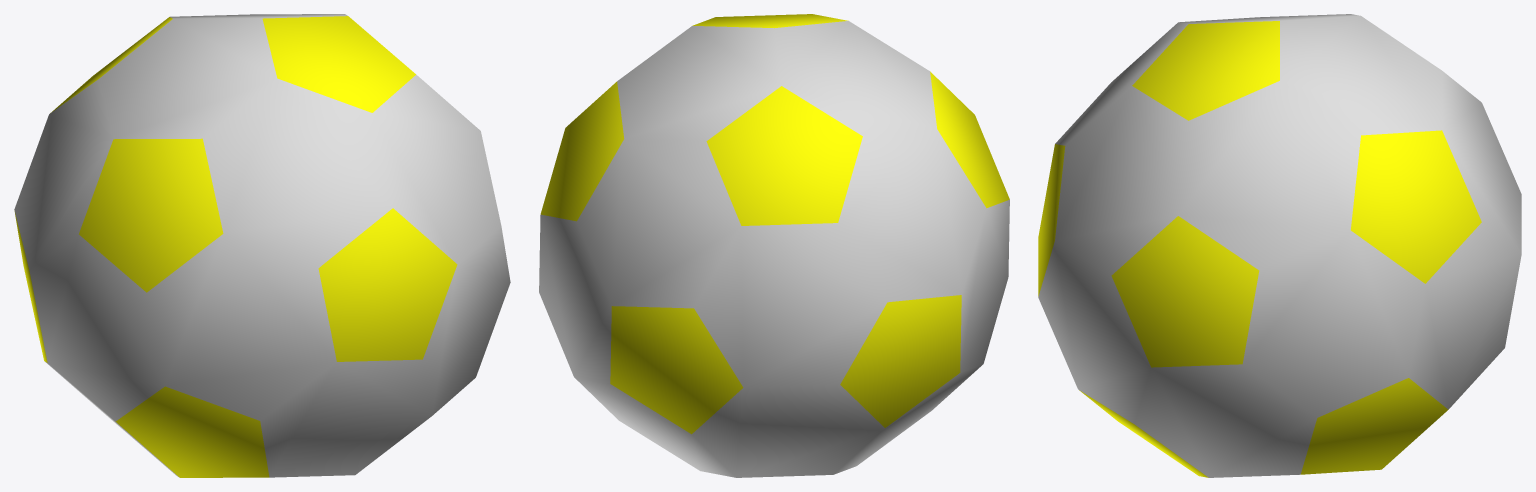
The model's file is yellowBall.glb.
The picture shows the model from 3 angles, left to right: view 1: azimuth 30°, elevation 25°; view 2: azimuth 150°, elevation 25°; view 3: azimuth 270°, elevation 25°; orthographic projection. The views are drawn at different scales.
Visible parts, largest first — view 1: yellowBall; view 2: yellowBall; view 3: yellowBall.
Boxes of the visible parts, left/top/right/bottom form: yellowBall: left=14, top=14, right=510, bottom=477; yellowBall: left=539, top=14, right=1009, bottom=477; yellowBall: left=1038, top=14, right=1521, bottom=477.
Size of what is drawn, in the model's own units: 1.97 by 2 by 1.95.
